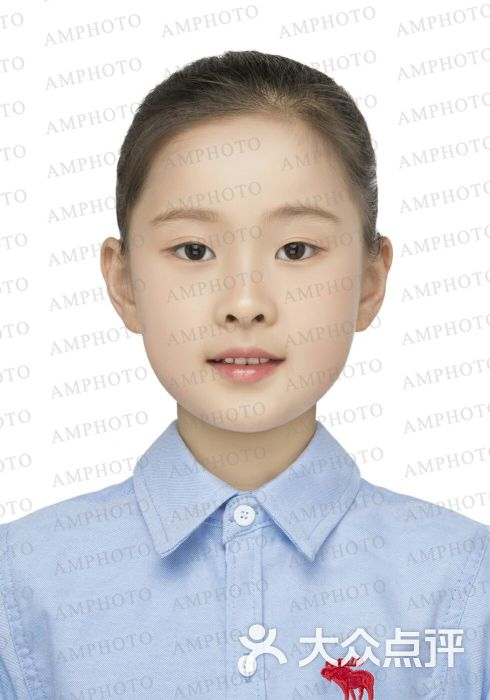unmask: (136, 134, 365, 429)
